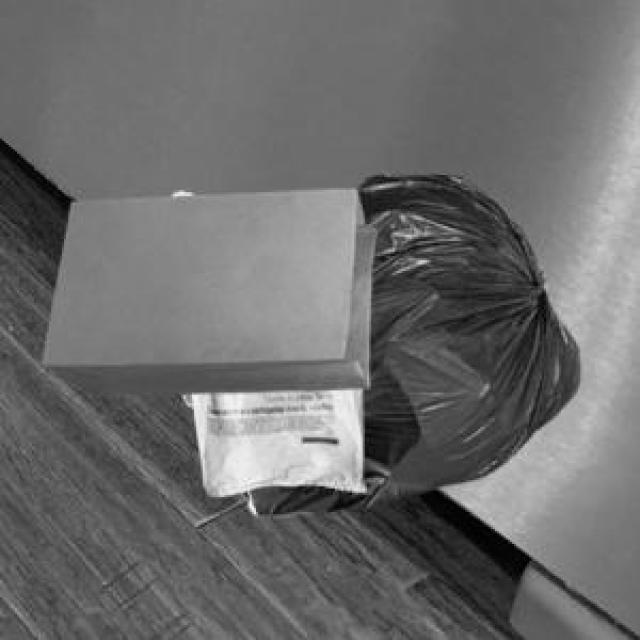miscellaneous trash: (180, 171, 576, 512)
paper: (38, 186, 373, 390)
